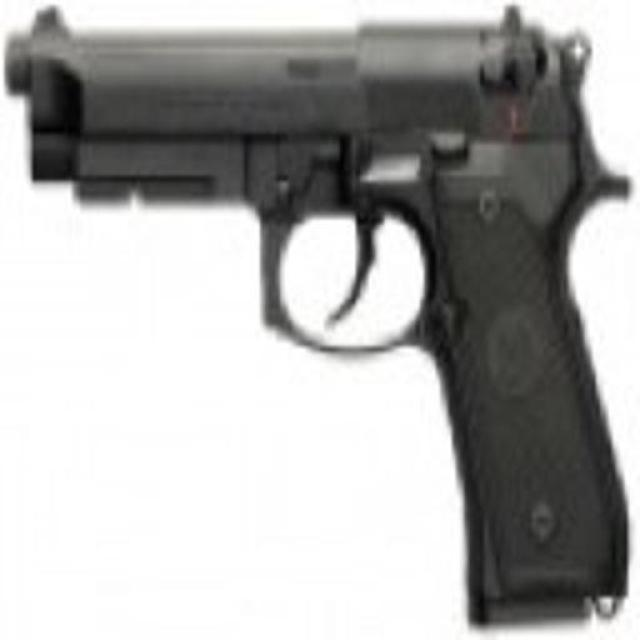pistol: (8, 5, 624, 617)
